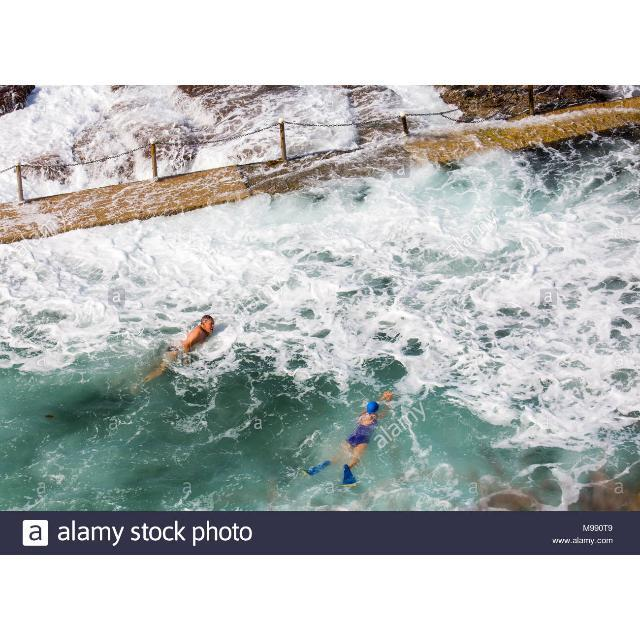human: (302, 389, 393, 488), (132, 310, 216, 390)
